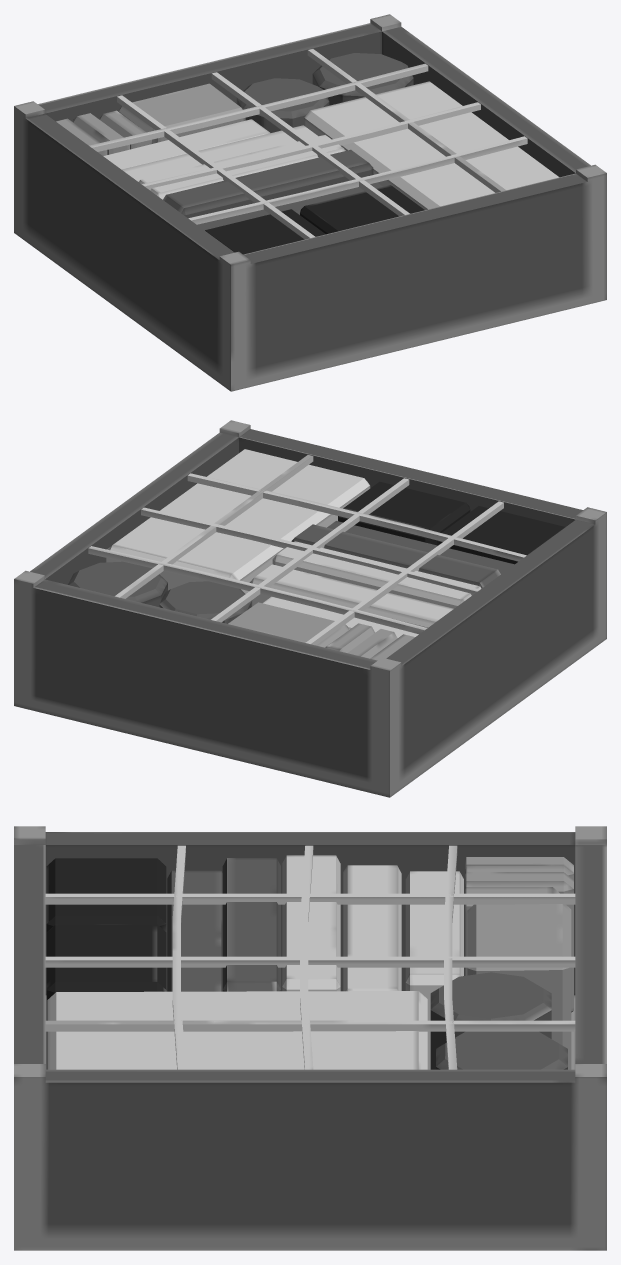
The model's file is Storage_D.fbx.
3 views of the same model, one above another, from view 1: azimuth 30°, elevation 25°; view 2: azimuth 150°, elevation 25°; view 3: azimuth 270°, elevation 25° (orthographic). The views are drawn at different scales.
Visible parts, largest first — view 1: Storage_D; view 2: Storage_D; view 3: Storage_D.
Boxes of the visible parts, x1,y1,x2,y2 form: Storage_D: [14, 14, 606, 391]; Storage_D: [14, 420, 606, 797]; Storage_D: [14, 826, 606, 1250].
Bounding box in the file's own units: 200 × 64.53 × 200.
